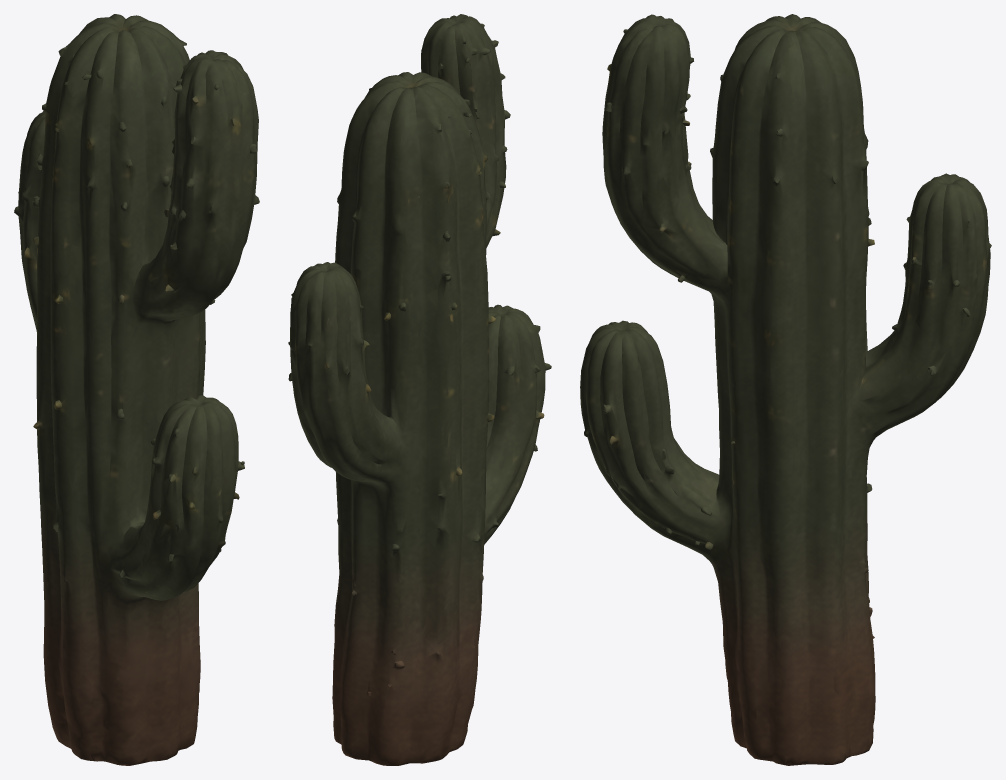
The picture shows the model from 3 angles, left to right: view 1: azimuth 30°, elevation 25°; view 2: azimuth 150°, elevation 25°; view 3: azimuth 270°, elevation 25°; orthographic projection. The views are drawn at different scales.
Parts seen in each view (by area): view 1: desert-cactus.001; view 2: desert-cactus.001; view 3: desert-cactus.001.
Boxes of the visible parts, x1=… form: desert-cactus.001: x1=14, y1=14, x2=259, y2=765; desert-cactus.001: x1=288, y1=14, x2=551, y2=765; desert-cactus.001: x1=580, y1=14, x2=991, y2=765.
Size of the model in its own units: 0.5235 by 2.4 by 1.24.
1 material, 1 textured.
